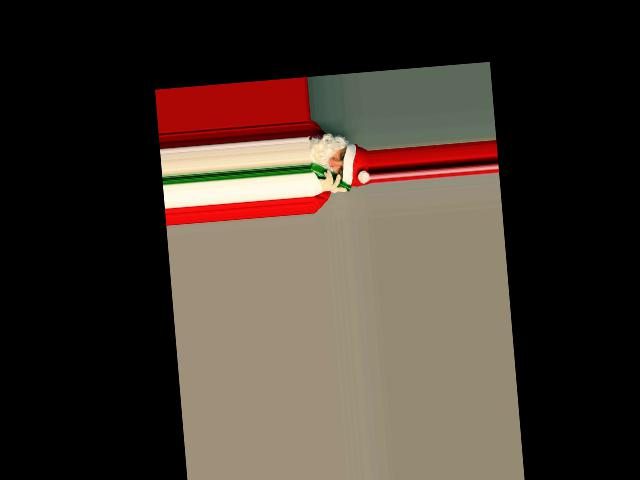beer: (309, 161, 351, 195)
